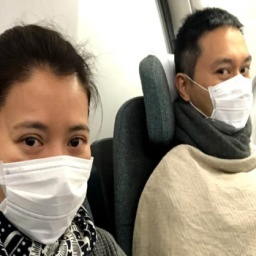correctlyWear: (1, 88, 94, 246), (173, 45, 252, 134)
